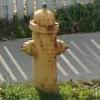a fire hydrant: (23, 4, 68, 91)
